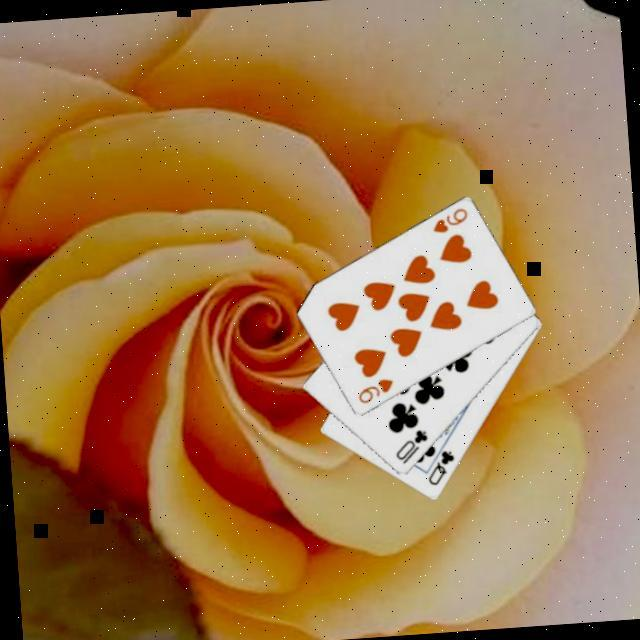10C: (388, 423, 431, 466)
9H: (426, 203, 470, 236), (351, 374, 395, 405)
QC: (421, 444, 458, 488)
